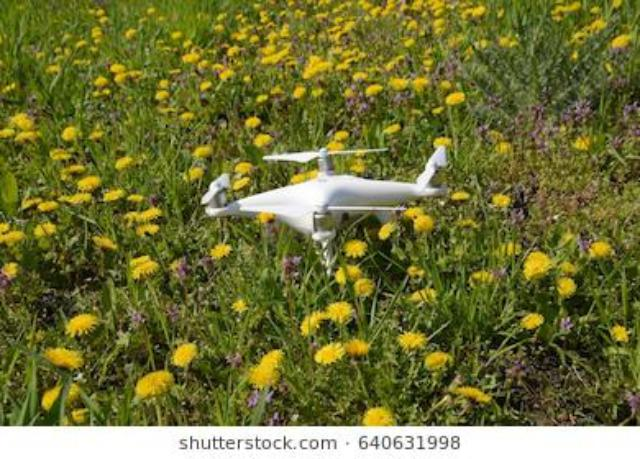drone: (177, 108, 465, 295)
